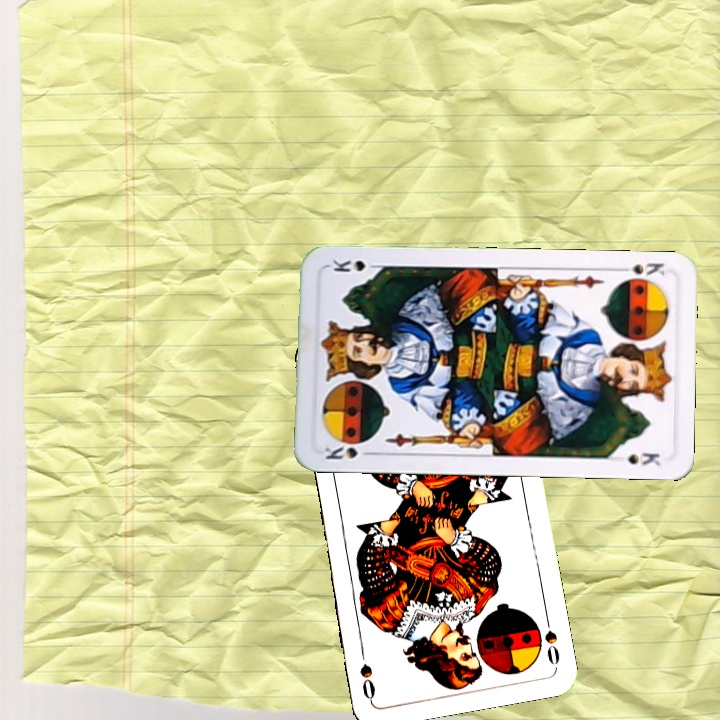SK: (320, 440, 377, 462), (613, 258, 667, 278)
SO: (540, 611, 563, 670)
